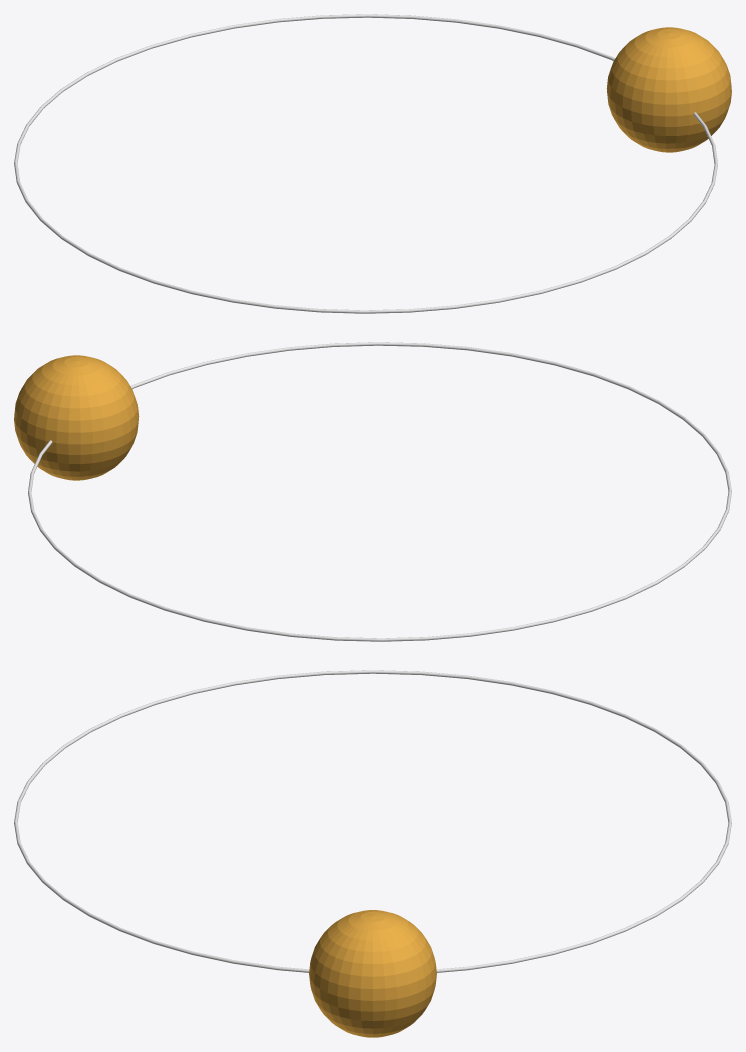
The model's file is planetstwo.glb.
3 views of the same model, one above another, from view 1: azimuth 30°, elevation 25°; view 2: azimuth 150°, elevation 25°; view 3: azimuth 270°, elevation 25° (orthographic).
Visible parts, largest first — view 1: Sphere.002, BézierCircle; view 2: Sphere.002, BézierCircle; view 3: Sphere.002, BézierCircle.
Boxes of the visible parts, x1,y1,x2,y2 form: Sphere.002: (606,27,731,152); BézierCircle: (14,14,717,313); Sphere.002: (14,355,139,480); BézierCircle: (28,342,731,641); Sphere.002: (309,910,436,1037); BézierCircle: (14,670,731,972).
Size of the model in its own units: 3.28 by 0.5372 by 3.01.
